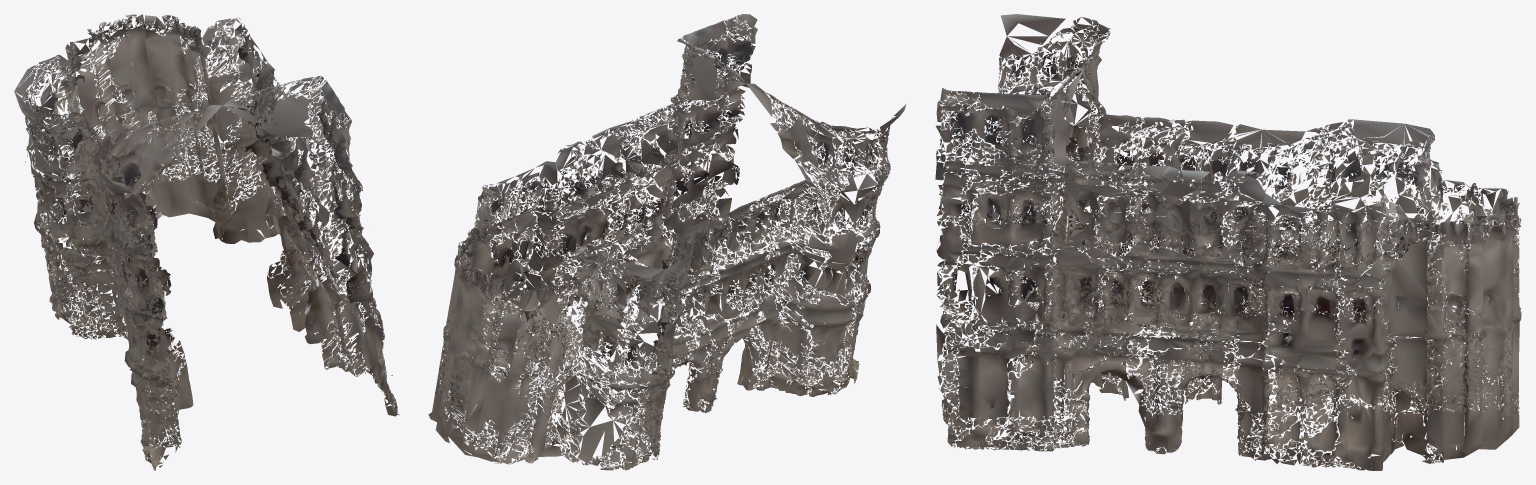
The model's file is rome-gateway-v30.glb.
The picture shows the model from 3 angles, left to right: view 1: azimuth 30°, elevation 25°; view 2: azimuth 150°, elevation 25°; view 3: azimuth 270°, elevation 25°; orthographic projection. The views are drawn at different scales.
Parts seen in each view (by area): view 1: Object_25, Object_15, Object_27, Object_11, Object_8, Object_24, Object_20, Object_16, Object_2, Object_13, Object_3, Object_12 (+17 smaller); view 2: Object_26, Object_17, Object_28, Object_9, Object_29, Object_2, Object_5, Object_10, Object_19, Object_22, Object_8, Object_12 (+17 smaller); view 3: Object_20, Object_24, Object_21, Object_14, Object_19, Object_22, Object_13, Object_15, Object_25, Object_23, Object_7, Object_12 (+17 smaller).
Boxes of the visible parts, <box> form: Object_25: <box>94,19,216,190</box>; Object_15: <box>52,37,268,340</box>; Object_27: <box>63,99,134,338</box>; Object_11: <box>107,110,203,374</box>; Object_8: <box>94,113,201,390</box>; Object_24: <box>63,28,280,273</box>; Object_20: <box>289,210,397,407</box>; Object_16: <box>138,152,307,456</box>; Object_2: <box>14,51,184,367</box>; Object_13: <box>246,79,363,270</box>; Object_3: <box>21,95,166,465</box>; Object_12: <box>117,76,374,332</box>; Object_26: <box>449,310,578,462</box>; Object_17: <box>683,270,863,413</box>; Object_28: <box>558,334,674,469</box>; Object_9: <box>723,194,879,374</box>; Object_29: <box>499,14,757,469</box>; Object_2: <box>554,238,757,425</box>; Object_5: <box>465,227,744,424</box>; Object_10: <box>706,144,851,360</box>; Object_19: <box>565,143,739,277</box>; Object_22: <box>534,173,669,317</box>; Object_8: <box>766,93,906,293</box>; Object_12: <box>571,31,886,250</box>; Object_20: <box>936,203,1182,452</box>; Object_24: <box>1245,222,1507,413</box>; Object_21: <box>936,190,1247,449</box>; Object_14: <box>1053,221,1400,457</box>; Object_19: <box>943,227,1237,438</box>; Object_22: <box>1054,224,1268,415</box>; Object_13: <box>941,71,1364,470</box>; Object_15: <box>1291,222,1519,463</box>; Object_25: <box>1427,221,1519,414</box>; Object_23: <box>996,222,1426,414</box>; Object_7: <box>938,17,1394,465</box>; Object_12: <box>936,51,1249,316</box>.
Size of the model in its own units: 16.72 by 16.32 by 23.33.
